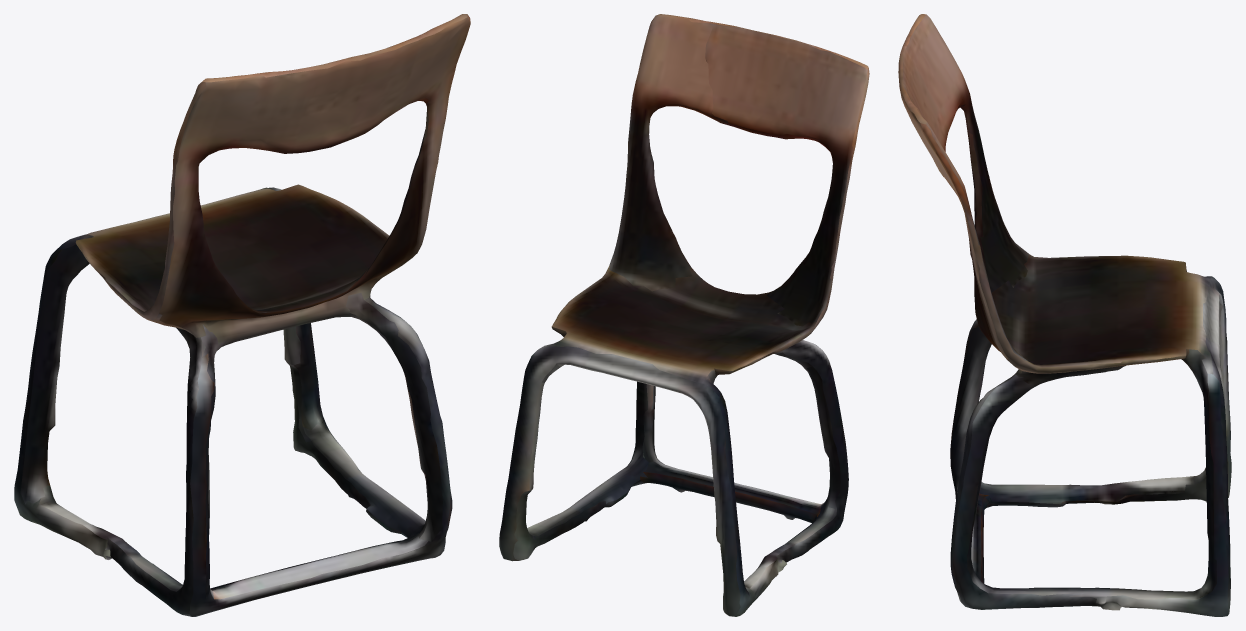
The picture shows the model from 3 angles, left to right: view 1: azimuth 30°, elevation 25°; view 2: azimuth 150°, elevation 25°; view 3: azimuth 270°, elevation 25°; orthographic projection. The views are drawn at different scales.
Parts seen in each view (by area): view 1: world; view 2: world; view 3: world.
Boxes of the visible parts, x1=… form: world: x1=14, y1=14, x2=470, y2=616; world: x1=499, y1=14, x2=869, y2=616; world: x1=898, y1=14, x2=1231, y2=616.
Size of the model in its own units: 0.2451 by 0.4317 by 0.2668.
Materials: 1 (1 with a texture image).
